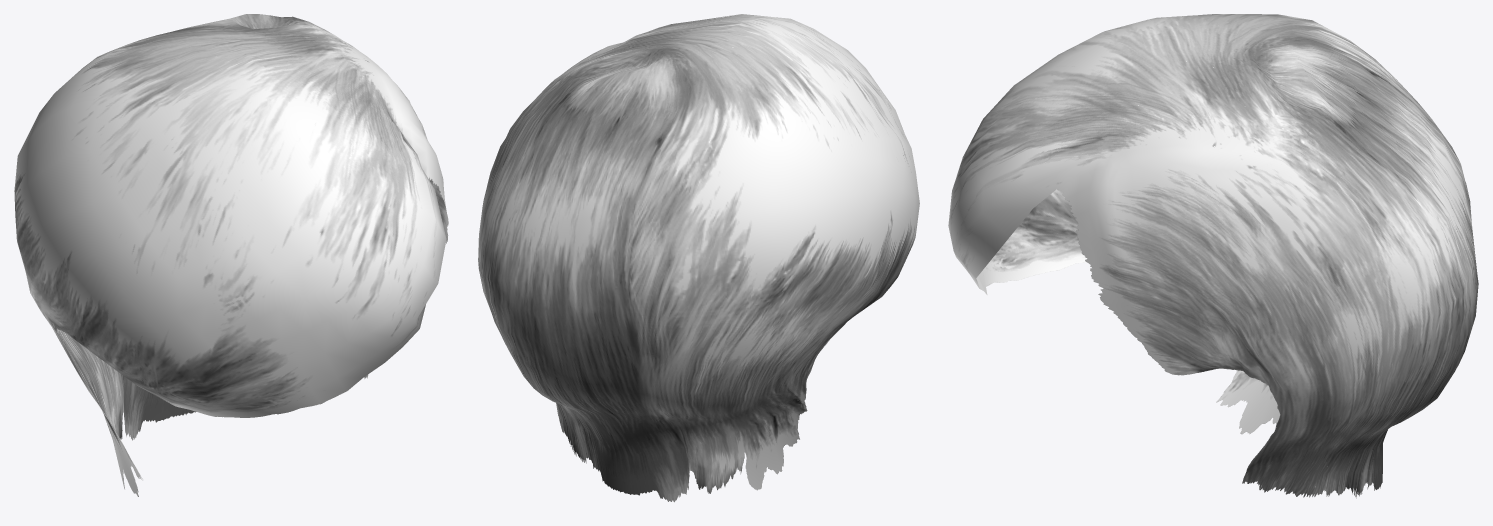
Rendered from medium.glb.
The picture shows the model from 3 angles, left to right: view 1: azimuth 30°, elevation 25°; view 2: azimuth 150°, elevation 25°; view 3: azimuth 270°, elevation 25°; orthographic projection. The views are drawn at different scales.
Parts seen in each view (by area): view 1: medium; view 2: medium; view 3: medium.
Part boxes in pixels (left/top/right/bottom): medium: left=14, top=14, right=448, bottom=496; medium: left=478, top=14, right=919, bottom=502; medium: left=948, top=14, right=1478, bottom=498.
Bounding box in the file's own units: 0.1672 × 0.1977 × 0.2043.
1 material, 1 textured.
